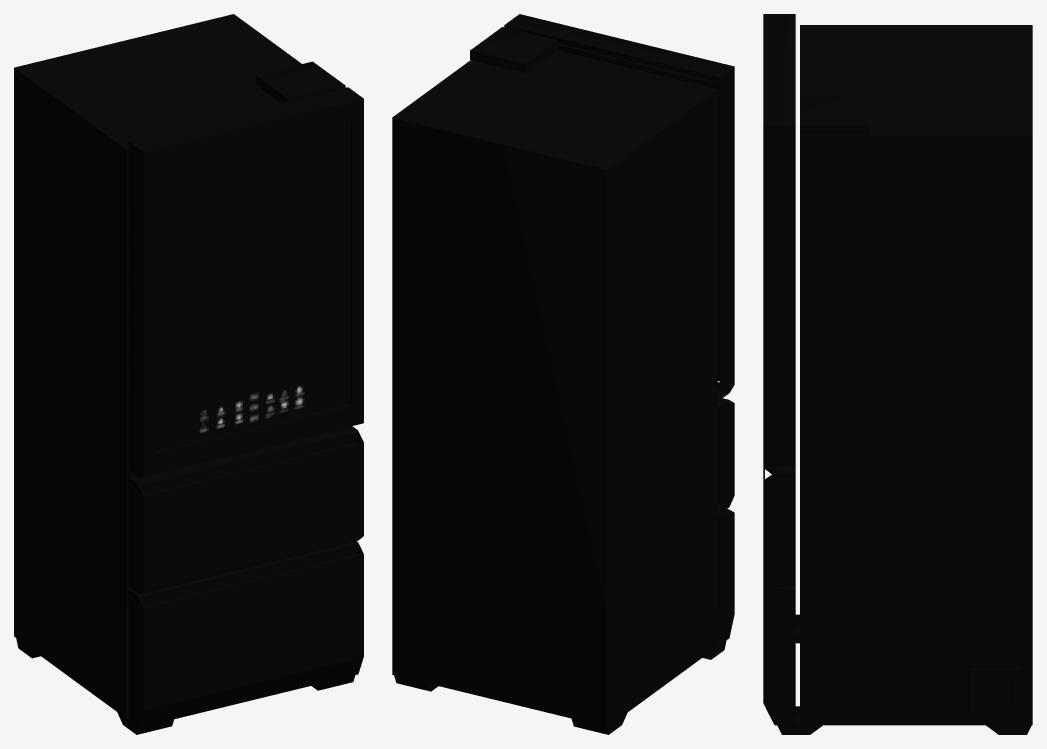
Rendered from electronic_80.001.fbx.
3 renders of one model, left to right at view 1: azimuth 30°, elevation 25°; view 2: azimuth 150°, elevation 25°; view 3: azimuth 270°, elevation 25°, orthographic. The views are drawn at different scales.
Visible parts, largest first — view 1: electronic_80.001; view 2: electronic_80.001; view 3: electronic_80.001.
Boxes of the visible parts, x1,y1,x2,y2 form: electronic_80.001: [14, 14, 363, 734]; electronic_80.001: [392, 14, 734, 734]; electronic_80.001: [763, 14, 1032, 734].
Bounding box in the file's own units: 70.6 × 179 × 71.68.
1 material, 1 textured.
